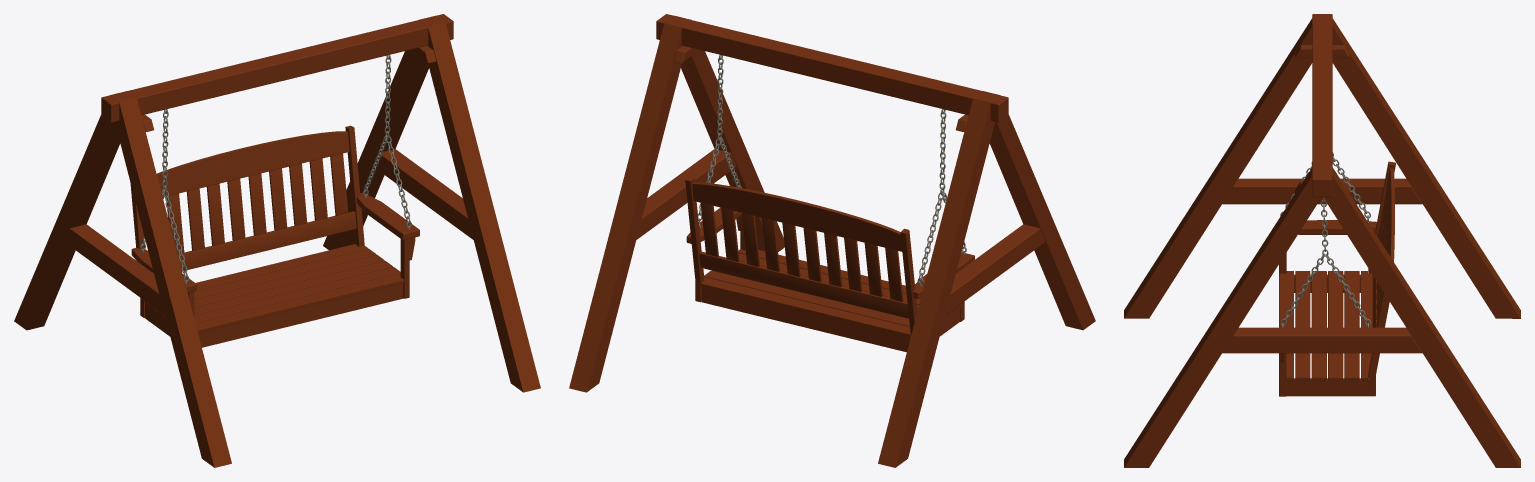
File: wooden outdoor porch swing.fbx
3 renders of one model, left to right at view 1: azimuth 30°, elevation 25°; view 2: azimuth 150°, elevation 25°; view 3: azimuth 270°, elevation 25°, orthographic.
Visible parts, largest first — view 1: Legs, SeatBottom, SeatBack, Top, CrossBar, SeatBack.001, Arms, BackLegs, Torus.001, Torus.003, FrontLegs; view 2: Legs, SeatBack, Top, SeatBottom, CrossBar, SeatBack.001, BackLegs, Torus.003, Arms, Torus.002; view 3: Legs, CrossBar, SeatBottom, Top, SideRails, BackLegs, SeatBack.001, SeatBack, Torus.002, Arms, CrossBar.001, FrontLegs (+1 smaller).
Part boxes in pixels (x1,y1,x2,y2): Legs: [14, 15, 540, 467]; SeatBottom: [144, 244, 403, 347]; SeatBack: [166, 153, 356, 270]; Top: [101, 14, 453, 122]; CrossBar: [64, 149, 473, 315]; SeatBack.001: [156, 131, 349, 195]; Arms: [131, 192, 419, 292]; BackLegs: [130, 125, 364, 317]; Torus.001: [163, 136, 410, 278]; Torus.003: [162, 56, 391, 192]; FrontLegs: [187, 237, 415, 317]; Legs: [569, 15, 1095, 467]; SeatBack: [699, 203, 908, 318]; Top: [656, 14, 1008, 122]; SeatBottom: [701, 249, 960, 352]; CrossBar: [636, 149, 1045, 315]; SeatBack.001: [692, 182, 902, 251]; BackLegs: [685, 176, 917, 336]; Torus.003: [717, 57, 946, 194]; Arms: [686, 207, 974, 298]; Torus.002: [698, 138, 943, 280]; Legs: [1124, 18, 1520, 467]; CrossBar: [1222, 178, 1422, 353]; SeatBottom: [1279, 271, 1372, 380]; Top: [1312, 14, 1332, 197]; SideRails: [1286, 274, 1368, 396]; BackLegs: [1368, 161, 1395, 396]; SeatBack.001: [1386, 168, 1394, 261]; SeatBack: [1372, 192, 1386, 327]; Torus.002: [1325, 152, 1370, 325]; Arms: [1298, 220, 1376, 234]; CrossBar.001: [1295, 45, 1349, 193]; FrontLegs: [1279, 253, 1286, 396].
Size of what is drawn, in the model's own units: 2371 by 1955 by 2403.
